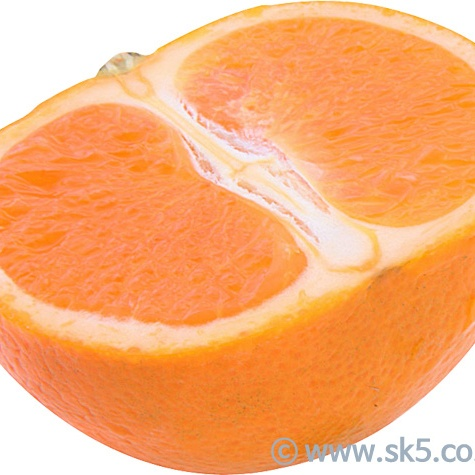mandarin: (1, 1, 475, 472)
